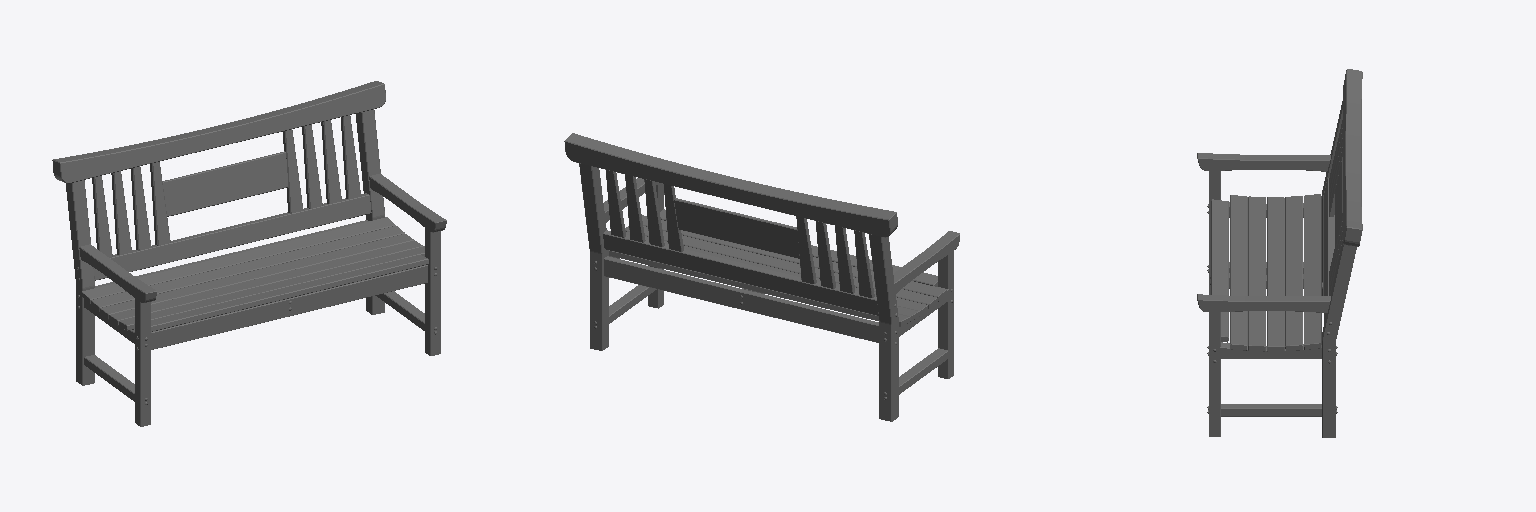
Rendered from bench.obj.
The picture shows the model from 3 angles: view 1: azimuth 30°, elevation 25°; view 2: azimuth 150°, elevation 25°; view 3: azimuth 270°, elevation 25°; orthographic projection.
Parts seen in each view (by area): view 1: Bench; view 2: Bench; view 3: Bench.
Boxes of the visible parts, box(x1,y1,x2,y2) form: Bench: box(52, 81, 446, 426); Bench: box(564, 133, 959, 421); Bench: box(1197, 69, 1362, 437).
Bounding box in the file's own units: 1.63 × 1.04 × 0.7173.